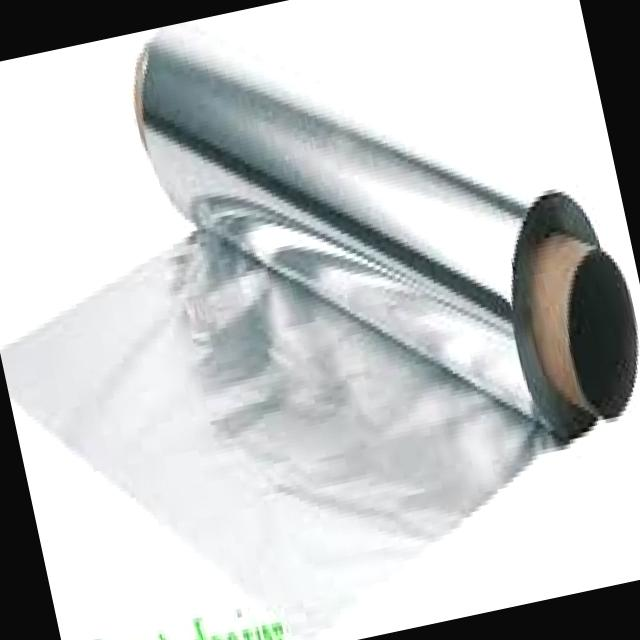kim_loai: (133, 22, 637, 621)
